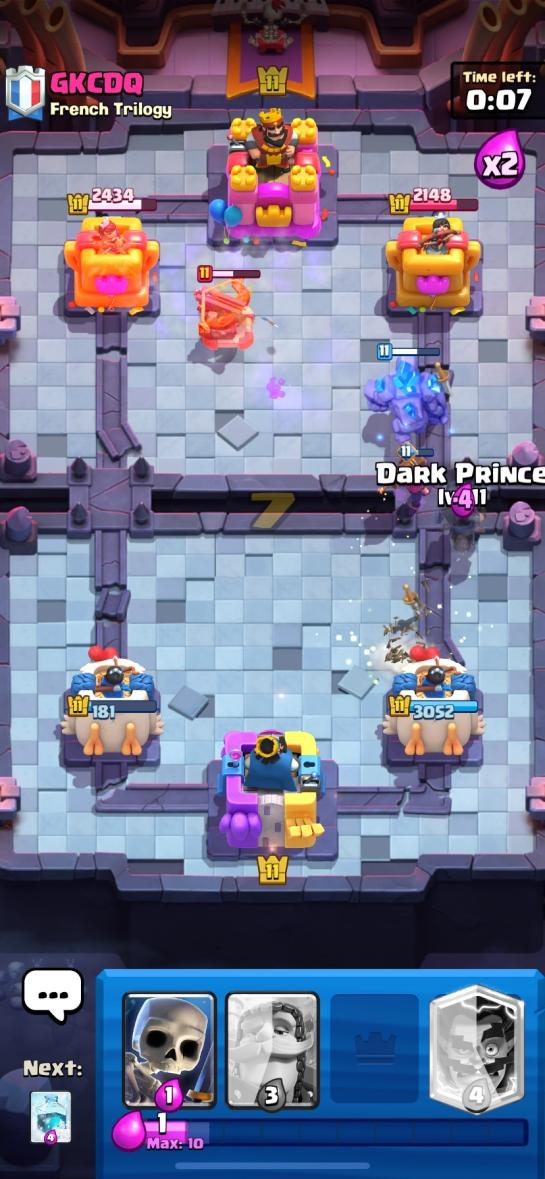EKingTower: (224, 109, 320, 243)
EXbow: (194, 264, 259, 351)
EnemyPrincessTower: (64, 217, 159, 315), (385, 217, 480, 315)
OGolem: (364, 342, 452, 442)
OwnKingTower: (219, 732, 324, 854)
OwnPrincessTower: (383, 645, 484, 758), (62, 646, 162, 757)
